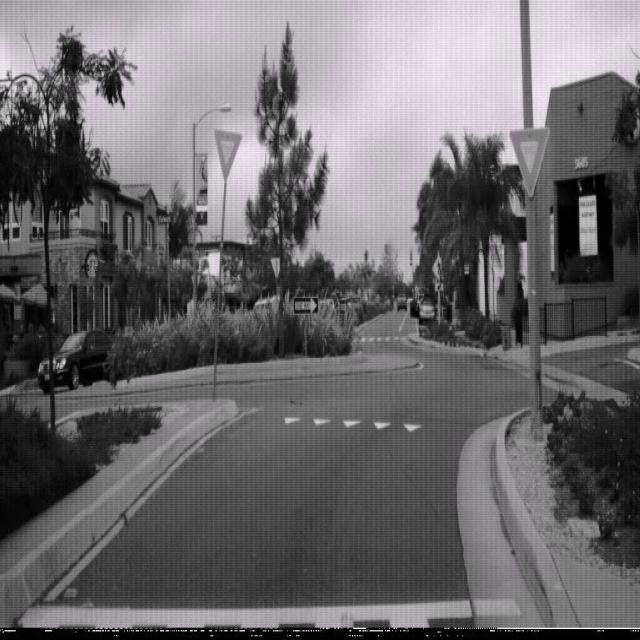pedestrianCrossing: (430, 252, 448, 284)
yield: (509, 125, 550, 197), (213, 126, 243, 182)
